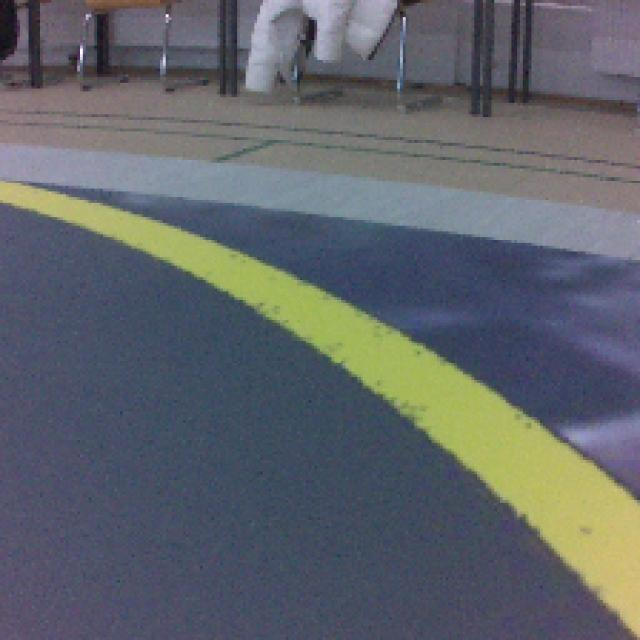Pedestrian crosswalk: (0, 182, 640, 638)
